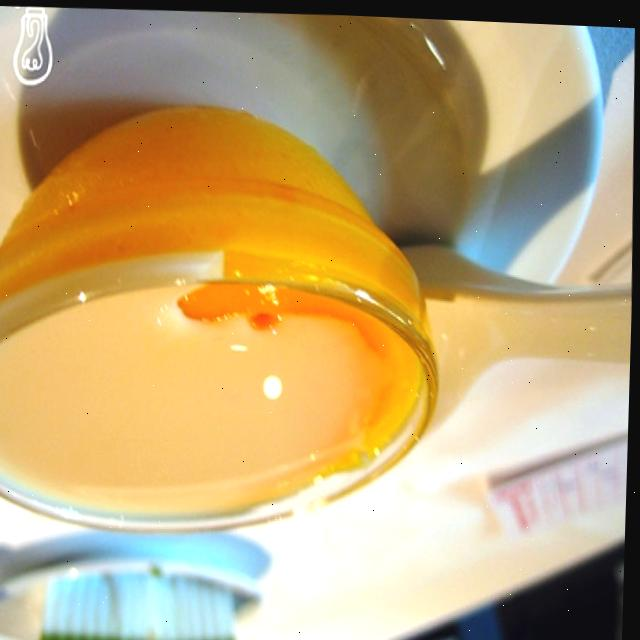蛋糕甜品: (0, 105, 473, 590)
